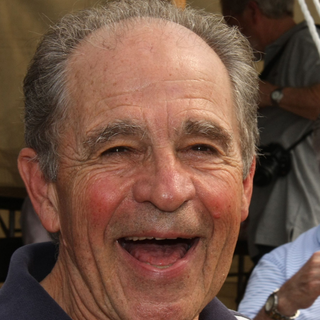eye: (178, 139, 225, 163), (93, 140, 142, 163)
